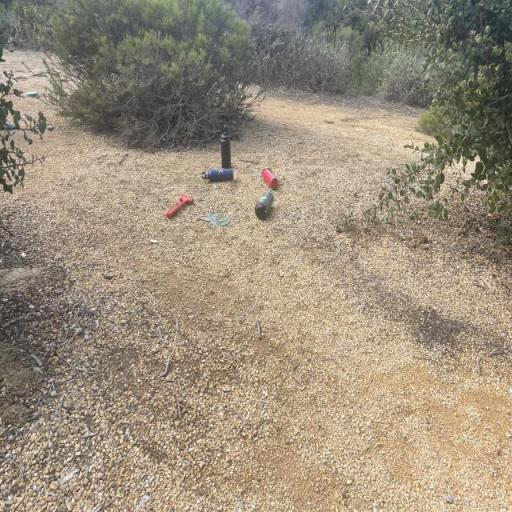bottle: (254, 190, 274, 218), (220, 124, 232, 168), (201, 168, 234, 182), (262, 167, 278, 189)
mallet: (166, 195, 194, 217)
